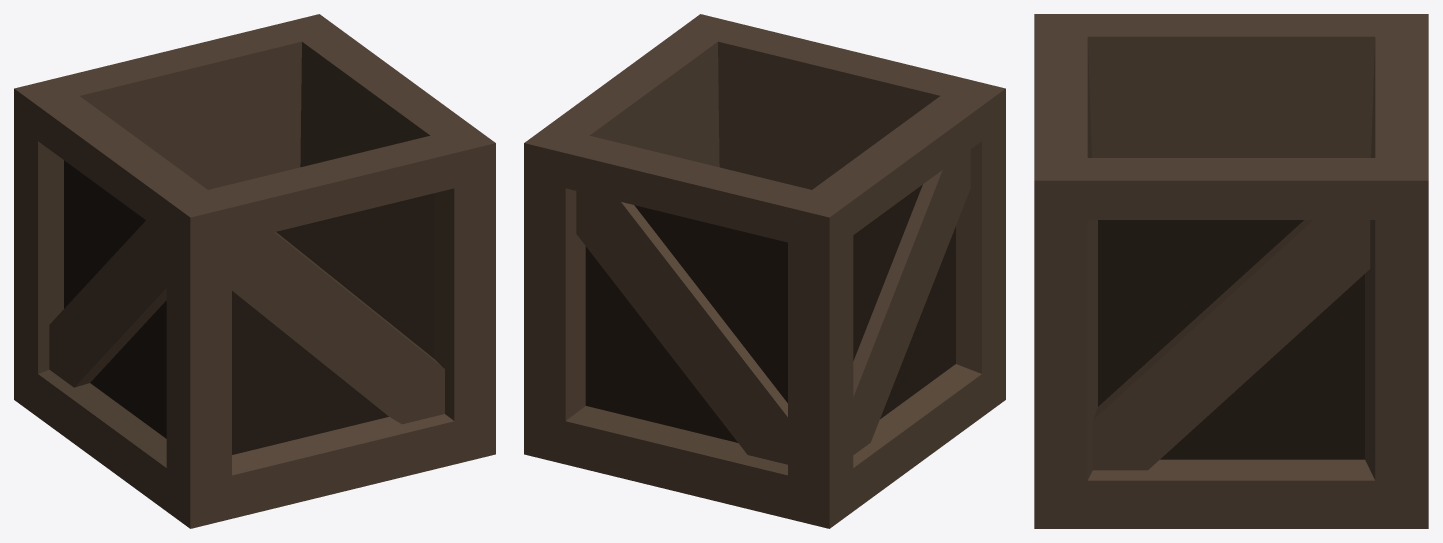
Rendered from Box_Open.fbx.
3 views of the same model, side by side, from view 1: azimuth 30°, elevation 25°; view 2: azimuth 150°, elevation 25°; view 3: azimuth 270°, elevation 25° (orthographic). The views are drawn at different scales.
Visible parts, largest first — view 1: Box_Open; view 2: Box_Open; view 3: Box_Open.
Boxes of the visible parts, left/top/right/bottom form: Box_Open: left=14, top=14, right=495, bottom=528; Box_Open: left=524, top=14, right=1005, bottom=528; Box_Open: left=1034, top=14, right=1428, bottom=528.
Size of the model in its own units: 200 by 195 by 200.
